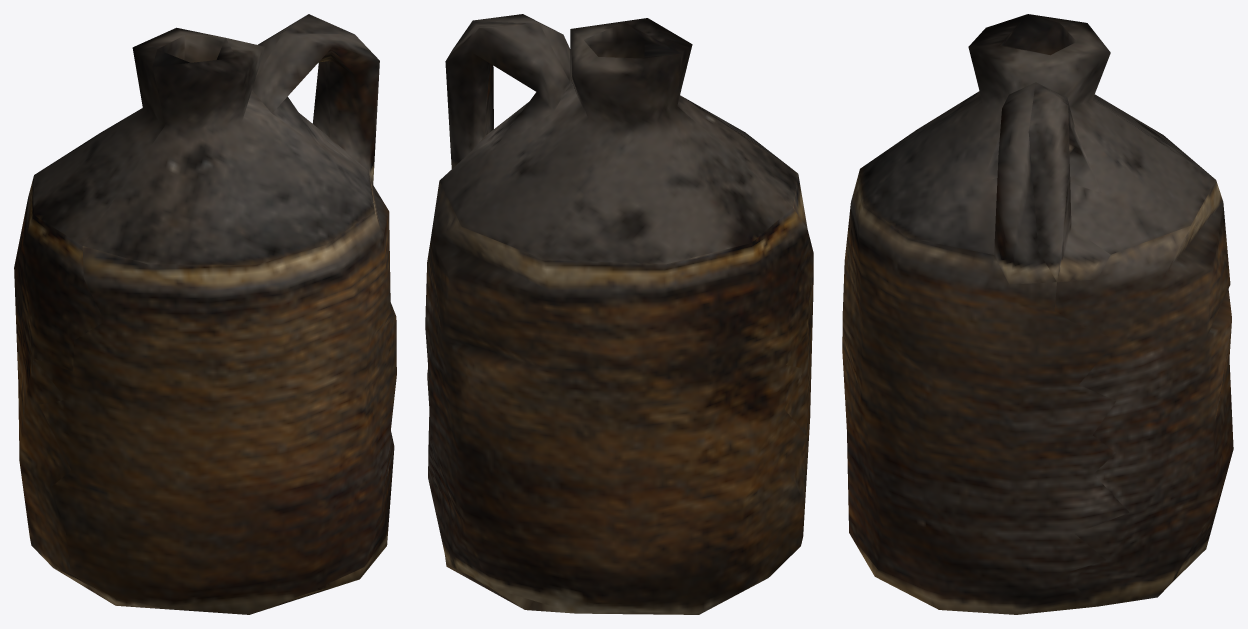
File: Q_Jug.fbx
The picture shows the model from 3 angles, left to right: view 1: azimuth 30°, elevation 25°; view 2: azimuth 150°, elevation 25°; view 3: azimuth 270°, elevation 25°; orthographic projection. The views are drawn at different scales.
Visible parts, largest first — view 1: Aset_container_decorative_S_uc1qbddqx_LOD5; view 2: Aset_container_decorative_S_uc1qbddqx_LOD5; view 3: Aset_container_decorative_S_uc1qbddqx_LOD5.
Boxes of the visible parts, x1,y1,x2,y2 form: Aset_container_decorative_S_uc1qbddqx_LOD5: [14, 14, 396, 614]; Aset_container_decorative_S_uc1qbddqx_LOD5: [425, 14, 813, 614]; Aset_container_decorative_S_uc1qbddqx_LOD5: [842, 14, 1233, 614].
Size of the model in its own units: 8.19 by 11.69 by 8.2.
